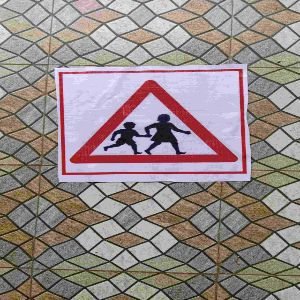schools: (62, 75, 244, 171)
